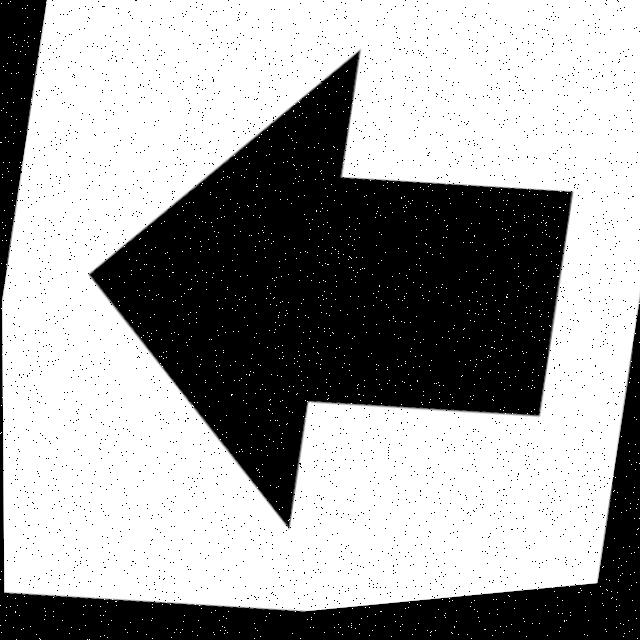LEFT: (90, 61, 572, 527)
